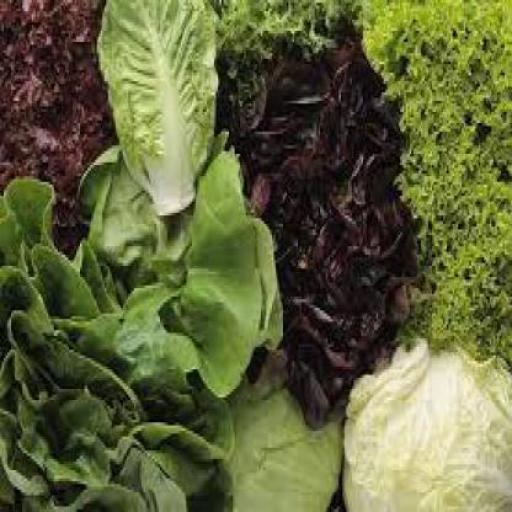biodegradable: (0, 125, 279, 509), (216, 36, 418, 423), (354, 0, 510, 361), (343, 333, 510, 509), (0, 0, 113, 250), (95, 0, 216, 213), (205, 361, 343, 509), (208, 0, 356, 42)
